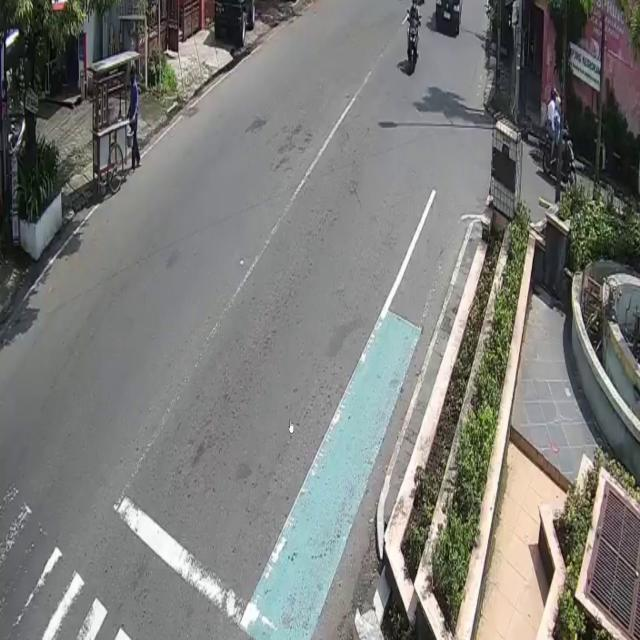motorbike: (544, 124, 576, 192), (408, 14, 418, 76)
